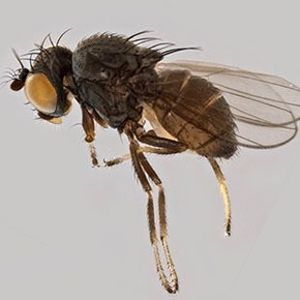Ephydridae: (4, 29, 300, 296)
